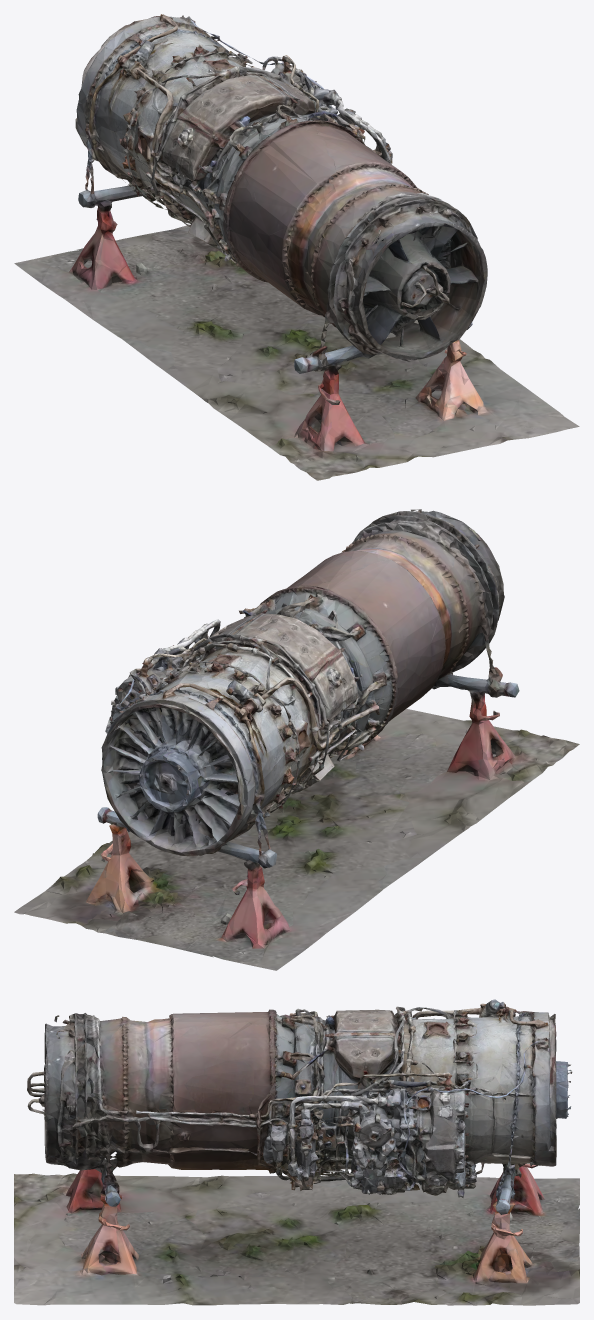
File: jet-engine.glb
3 renders of one model, top to bottom at view 1: azimuth 30°, elevation 25°; view 2: azimuth 150°, elevation 25°; view 3: azimuth 270°, elevation 25°, orthographic. The views are drawn at different scales.
Bounding box in the file's own units: 1.2 × 1.06 × 2.39.
Materials: 1 (1 with a texture image).
